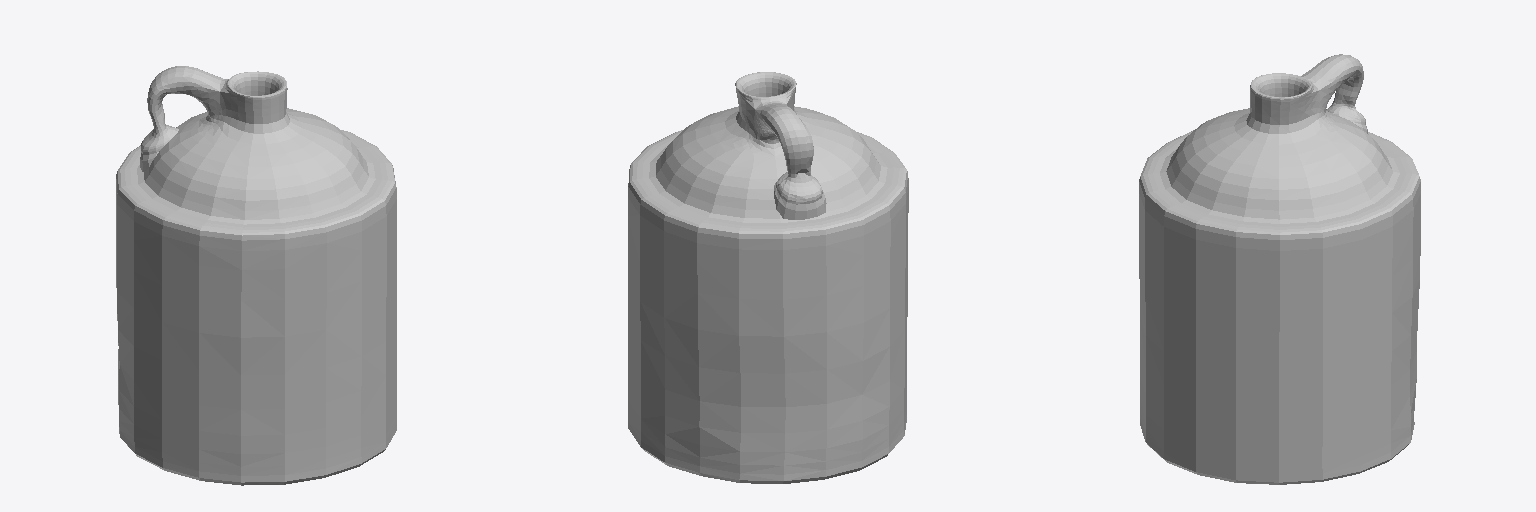
Rendered from whiskey_jug_optimized.obj.
The picture shows the model from 3 angles: view 1: azimuth 30°, elevation 25°; view 2: azimuth 150°, elevation 25°; view 3: azimuth 270°, elevation 25°; orthographic projection.
Parts seen in each view (by area): view 1: Cylinder.002_Cylinder; view 2: Cylinder.002_Cylinder; view 3: Cylinder.002_Cylinder.
Boxes of the visible parts, <box> form: Cylinder.002_Cylinder: <box>116,66,396,485</box>; Cylinder.002_Cylinder: <box>628,72,908,483</box>; Cylinder.002_Cylinder: <box>1139,54,1420,484</box>.
Size of the model in its own units: 1.94 by 2.69 by 1.94.